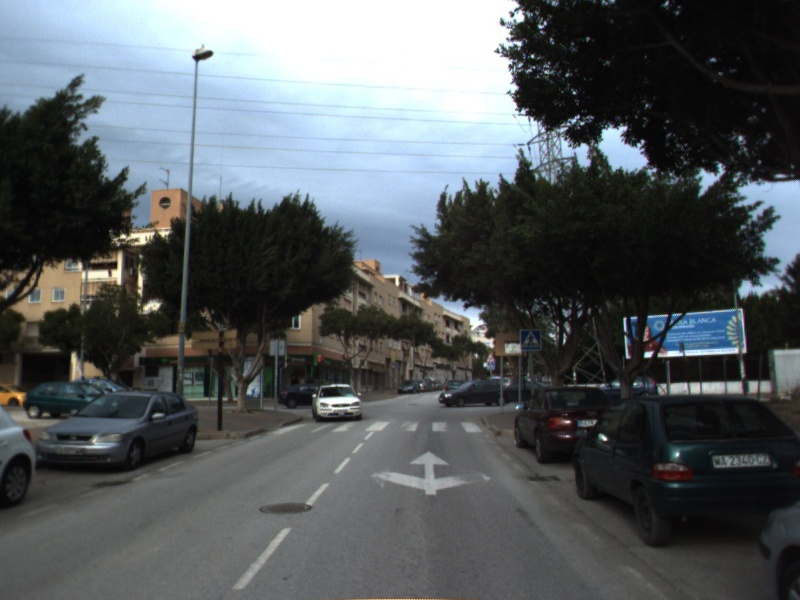STRAIGHT_LEFT_RIGHT: (368, 448, 494, 497)
